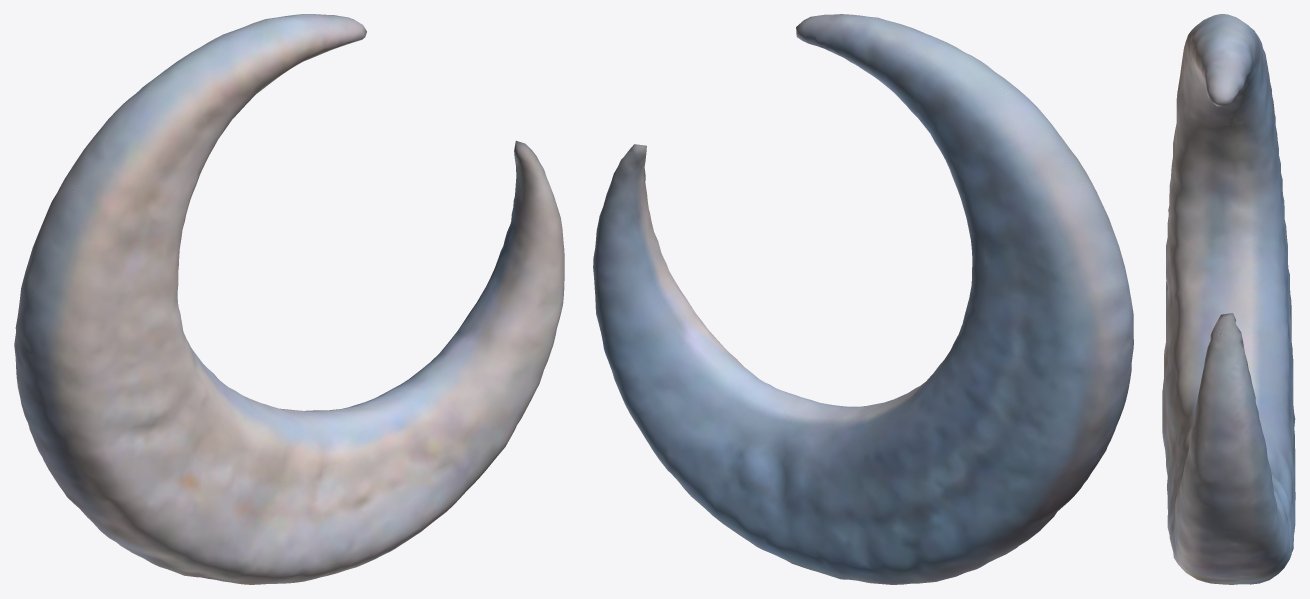
The model's file is lua.fbx.
The picture shows the model from 3 angles, left to right: view 1: azimuth 30°, elevation 25°; view 2: azimuth 150°, elevation 25°; view 3: azimuth 270°, elevation 25°; orthographic projection. The views are drawn at different scales.
Visible parts, largest first — view 1: Mesh1; view 2: Mesh1; view 3: Mesh1.
Part boxes in pixels (x1,y1,x2,y2): Mesh1: (14, 14, 564, 584); Mesh1: (593, 14, 1133, 584); Mesh1: (1162, 14, 1295, 584).
Size of the model in its own units: 120 by 120 by 28.3.
1 material, 1 textured.
